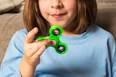fidget_kid_spinner_toys: (30, 18, 70, 55)
